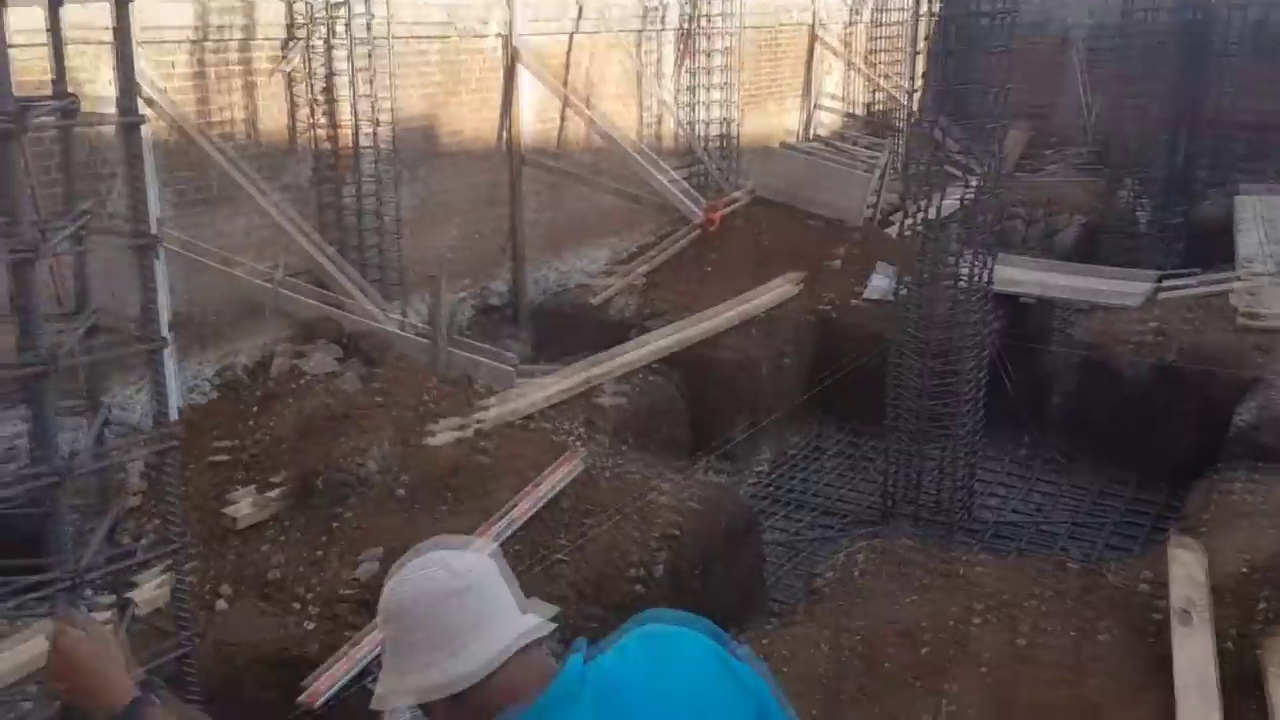helmet-off: (359, 564, 559, 711)
person: (64, 524, 807, 720)
